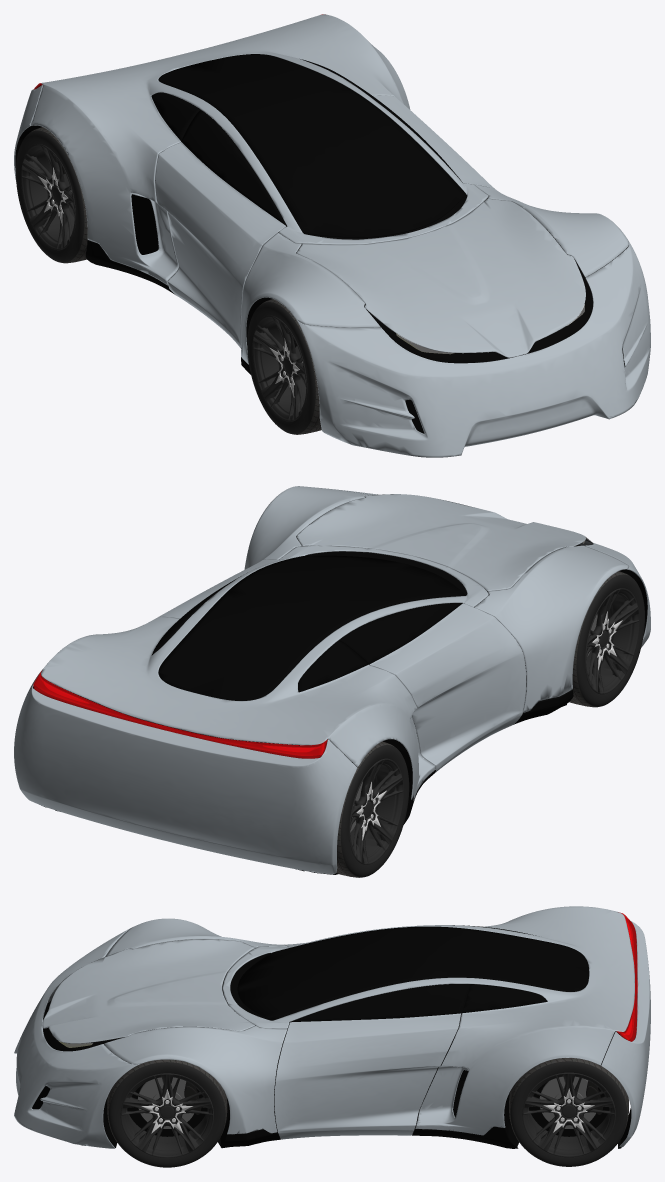
The model's file is concept-car.glb.
3 renders of one model, top to bottom at view 1: azimuth 30°, elevation 25°; view 2: azimuth 150°, elevation 25°; view 3: azimuth 270°, elevation 25°, orthographic. The views are drawn at different scales.
Visible parts, largest first — view 1: Cube.050, Cube.046, Cube.042, Cube.043, Cube.047, Cube.049, Cube.057, Cube.039, rim_235.001, rim_235.002, tire_v001_Coll.001|Mesh5.004|Dupli|, tire_v001_Coll.003|Mesh5.004|Dupli| (+2 smaller); view 2: Cube.048, Cube.046, Cube.042, Cube.047, Cube.049, Cube.043, Cube.057, rim_235.001, rim_235.002, tire_v001_Coll.003|Mesh5.004|Dupli|, tire_v001_Coll.001|Mesh5.004|Dupli|, Cube.045 (+5 smaller); view 3: Cube.046, Cube.042, Cube.047, Cube.043, Cube.049, Cube.050, Cube.057, rim_235, rim_235.003, tire_v001_Coll.002|Mesh5.004|Dupli|, tire_v001_Coll|Mesh5.004|Dupli|, Cube.048 (+8 smaller).
Part boxes in pixels (box(x1,y1,x2,y2)): Cube.050: box(296, 240, 650, 457); Cube.046: box(30, 14, 488, 285); Cube.042: box(159, 54, 465, 237); Cube.043: box(297, 198, 585, 357); Cube.047: box(155, 95, 494, 348); Cube.049: box(240, 184, 628, 364); Cube.057: box(151, 59, 462, 225); Cube.039: box(131, 79, 597, 433); rim_235.001: box(252, 315, 307, 421); rim_235.002: box(21, 144, 75, 250); tire_v001_Coll.001|Mesh5.004|Dupli|: box(247, 299, 321, 434); tire_v001_Coll.003|Mesh5.004|Dupli|: box(16, 127, 87, 263); Cube.048: box(14, 682, 357, 874); Cube.046: box(31, 545, 488, 801); Cube.042: box(159, 555, 465, 700); Cube.047: box(159, 559, 526, 773); Cube.049: box(244, 486, 628, 712); Cube.043: box(297, 494, 585, 591); Cube.057: box(151, 576, 462, 692); rim_235.001: box(585, 588, 639, 694); rim_235.002: box(349, 758, 403, 864); tire_v001_Coll.003|Mesh5.004|Dupli|: box(336, 741, 409, 877); tire_v001_Coll.001|Mesh5.004|Dupli|: box(569, 571, 644, 707); Cube.045: box(33, 671, 327, 758); Cube.046: box(223, 906, 634, 1135); Cube.042: box(237, 926, 588, 1020); Cube.047: box(274, 942, 460, 1139); Cube.043: box(42, 939, 254, 1043); Cube.049: box(104, 918, 287, 1134); Cube.050: box(14, 929, 140, 1148); Cube.057: box(290, 925, 547, 1022); rim_235: box(120, 1073, 213, 1157); rim_235.003: box(522, 1072, 615, 1157); tire_v001_Coll.002|Mesh5.004|Dupli|: box(509, 1058, 628, 1166); tire_v001_Coll|Mesh5.004|Dupli|: box(107, 1059, 227, 1167); Cube.048: box(601, 920, 650, 1147).
Bounding box in the file's own units: 2.07 × 1.04 × 3.98.
14 materials, 1 textured.
